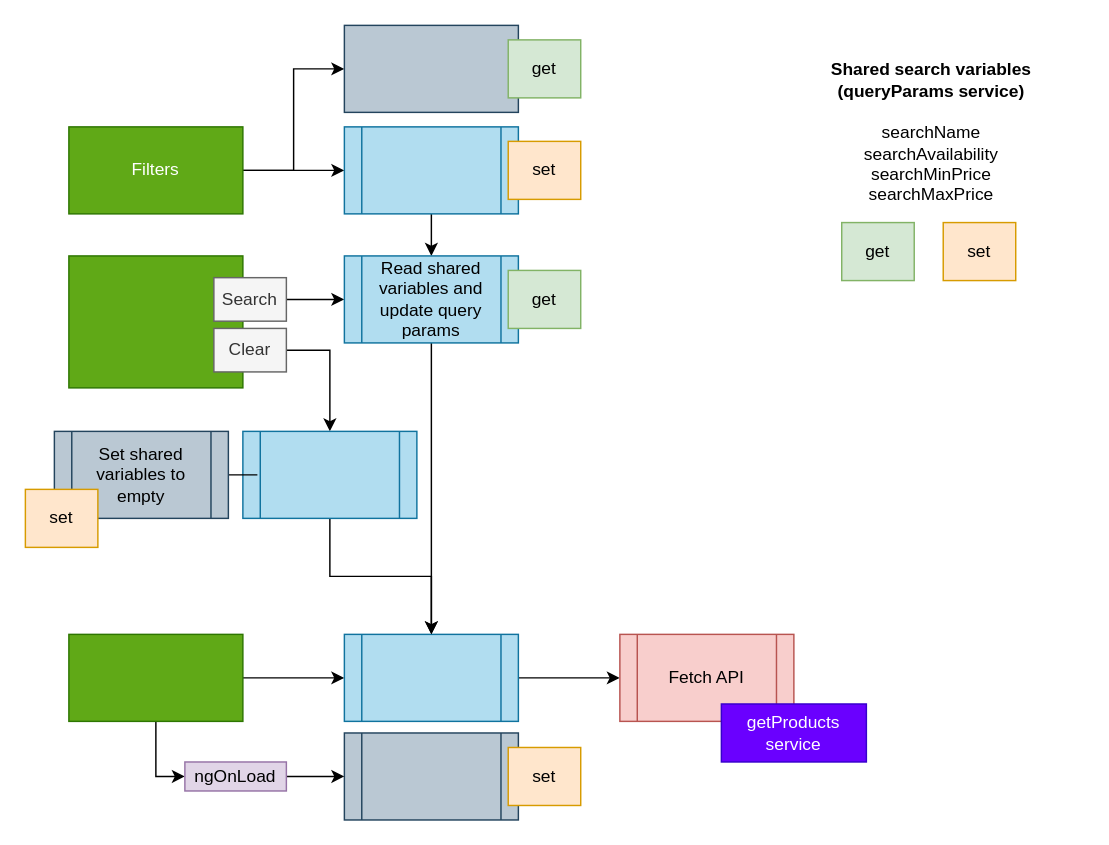
Some shapes in this 1109 by 845 pixel diagram are drawn without their labels. The centre of each missing label's shape, as x and y in pixels:
"Clear/delete query params" belongs at point 329,474.
"Header" belongs at point 155,321.
"Inputs initial values are the shared values" belongs at point 430,68.
"Listen to query params change" belongs at point 430,677.
"On inputs change, update shared search variables" belongs at point 430,169.
"Read query params in url and update shared" belongs at point 430,776.
"Table" belongs at point 155,677.
